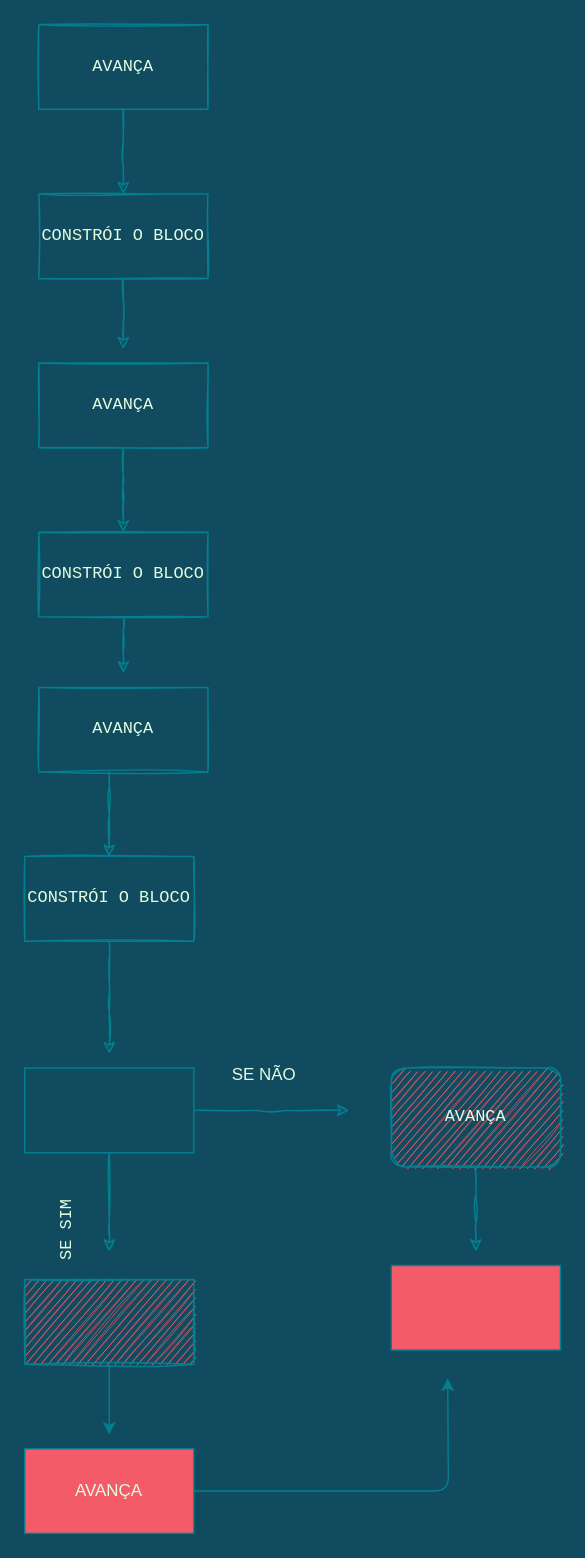
Some shapes in this 585 by 1558 pixel diagram are drawn without their labels. The shapes that lost their labels are listed below. From the top down, each one's centre as x and y in pixels, then its label:
point (108, 1110): TEM LARVA?
point (108, 1321): COLOCA O PEDREGULHO
point (475, 1307): CHEGOU ATÉ A OVELHA. FIM
